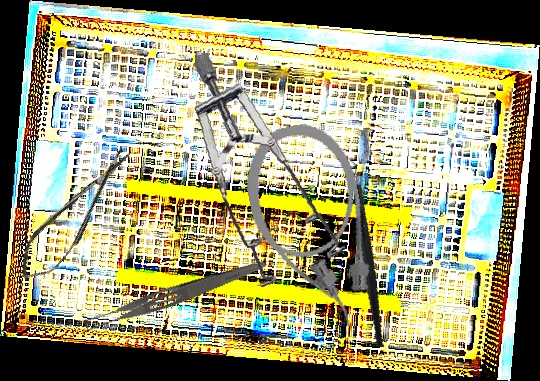Cannula: (236, 115, 385, 341)
Chopper: (304, 154, 422, 348)
Dressing Forceps: (77, 251, 269, 338)
Micro Scissor: (7, 139, 145, 291)
Speculum: (168, 51, 367, 297)
